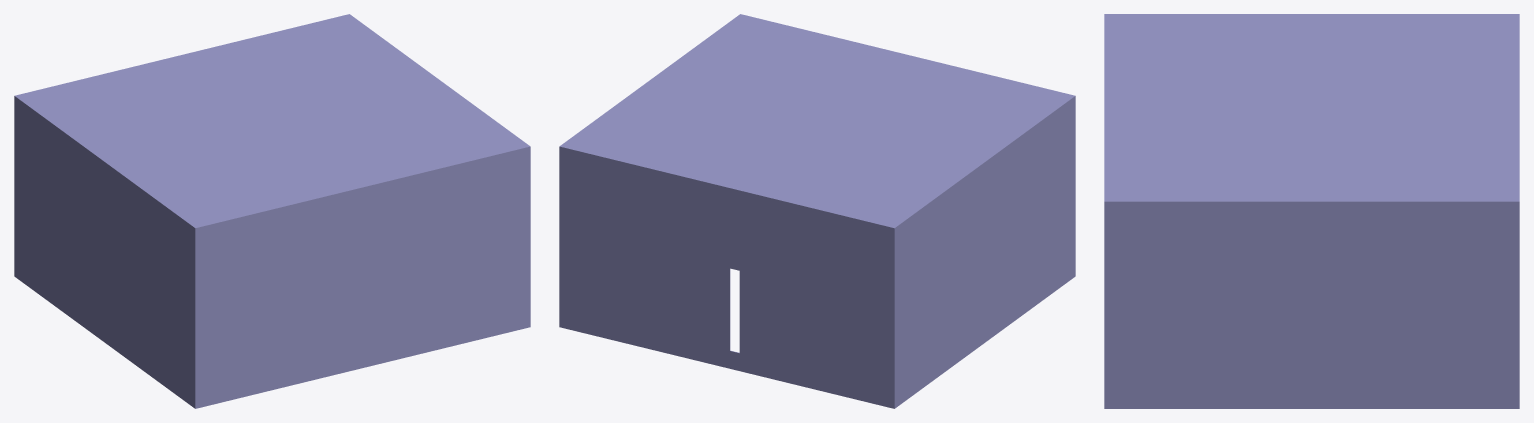
The model's file is DumpShell.gltf.
The picture shows the model from 3 angles, left to right: view 1: azimuth 30°, elevation 25°; view 2: azimuth 150°, elevation 25°; view 3: azimuth 270°, elevation 25°; orthographic projection. The views are drawn at different scales.
Parts seen in each view (by area): view 1: logicDumpShell_pv0x22137c8; view 2: logicDumpShell_pv0x22137c8; view 3: logicDumpShell_pv0x22137c8.
Boxes of the visible parts, <box> form: logicDumpShell_pv0x22137c8: <box>14,14,530,408</box>; logicDumpShell_pv0x22137c8: <box>559,14,1075,408</box>; logicDumpShell_pv0x22137c8: <box>1104,14,1519,408</box>.
Size of the model in its own units: 216 by 111 by 202.
